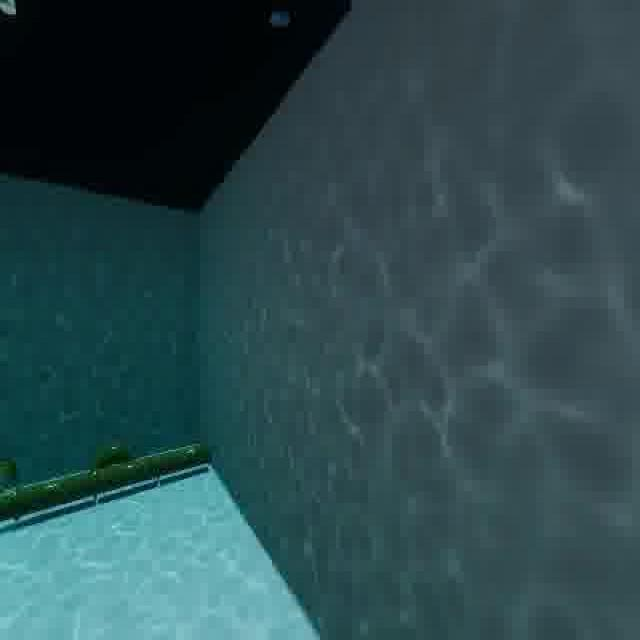Pipe: (0, 427, 216, 534)
